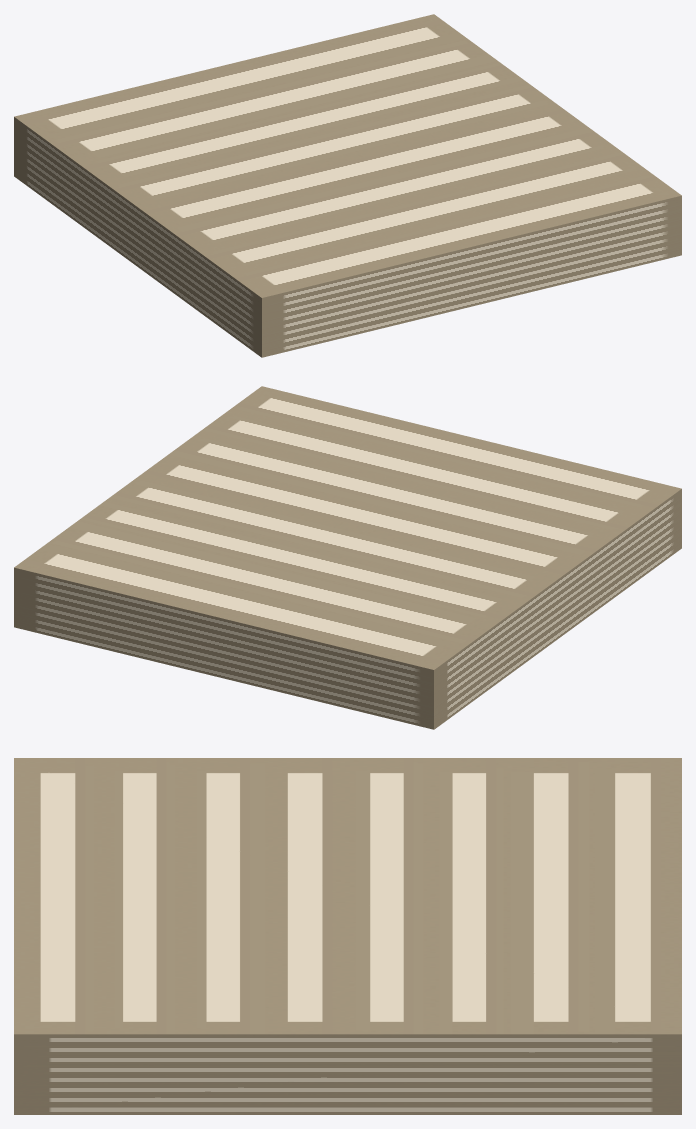
File: border_tile.FBX
3 renders of one model, top to bottom at view 1: azimuth 30°, elevation 25°; view 2: azimuth 150°, elevation 25°; view 3: azimuth 270°, elevation 25°, orthographic. The views are drawn at different scales.
Parts seen in each view (by area): view 1: border_tile; view 2: border_tile; view 3: border_tile.
Part boxes in pixels (x1=…): border_tile: x1=14, y1=14, x2=681, y2=357; border_tile: x1=14, y1=386, x2=681, y2=729; border_tile: x1=14, y1=758, x2=681, y2=1114.
Bounding box in the file's own units: 4.45 × 0.6047 × 4.55.
1 material, 1 textured.
